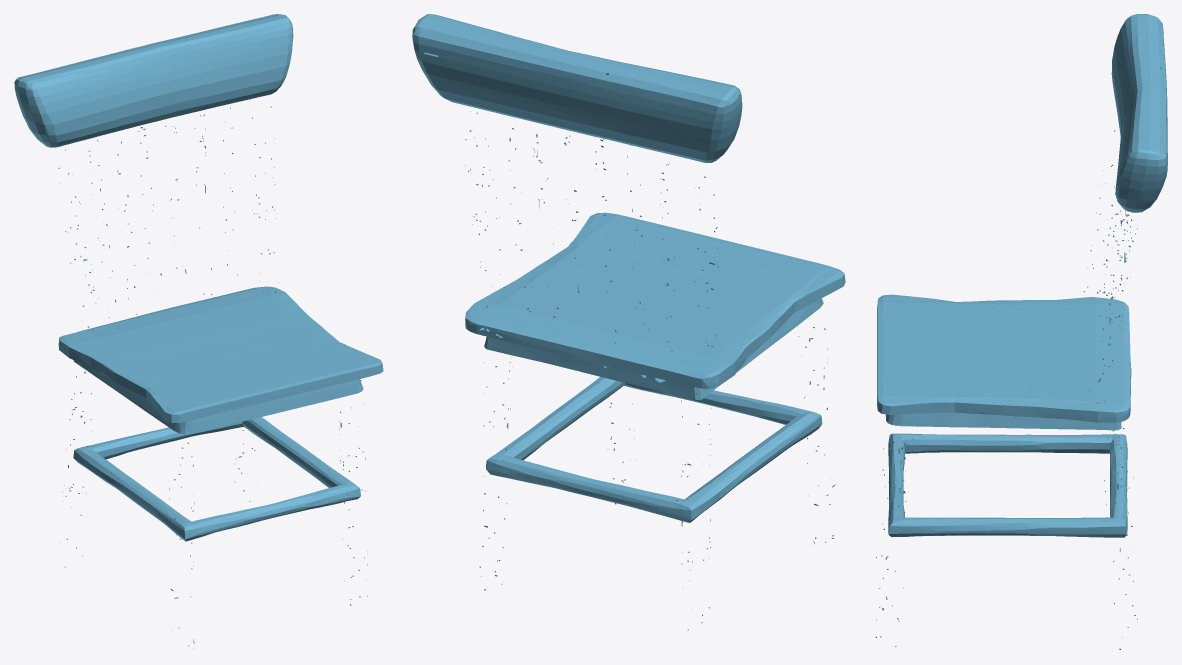
File: method-a.glb
3 renders of one model, left to right at view 1: azimuth 30°, elevation 25°; view 2: azimuth 150°, elevation 25°; view 3: azimuth 270°, elevation 25°, orthographic. The views are drawn at different scales.
Parts seen in each view (by area): view 1: Volume A · part 3, Volume A · part 2, Volume A · part 1; view 2: Volume A · part 3, Volume A · part 2, Volume A · part 1; view 3: Volume A · part 3, Volume A · part 1, Volume A · part 2.
Boxes of the visible parts, box(x1,y1,x2,y2) form: Volume A · part 3: box(58, 197, 383, 480); Volume A · part 2: box(14, 14, 293, 244); Volume A · part 1: box(59, 408, 367, 648); Volume A · part 3: box(465, 211, 845, 444); Volume A · part 2: box(412, 14, 742, 252); Volume A · part 1: box(479, 362, 835, 630); Volume A · part 3: box(877, 205, 1131, 473); Volume A · part 1: box(875, 428, 1137, 649); Volume A · part 2: box(1099, 14, 1167, 295).
Bounding box in the file's own units: 0.5822 × 1 × 0.5108.
